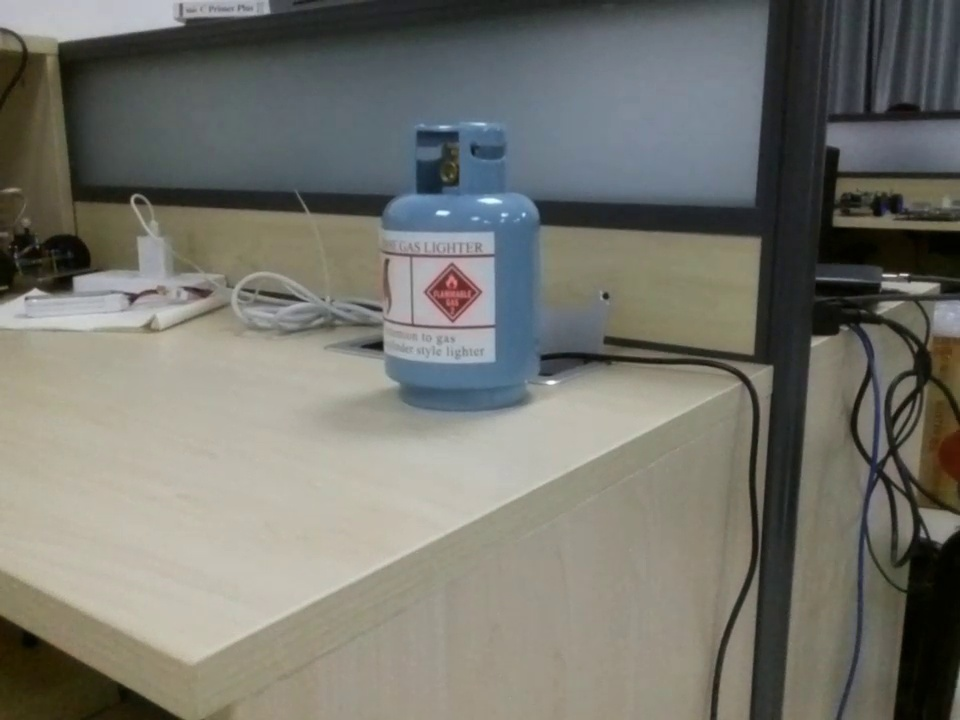gas tank: (365, 103, 558, 414)
